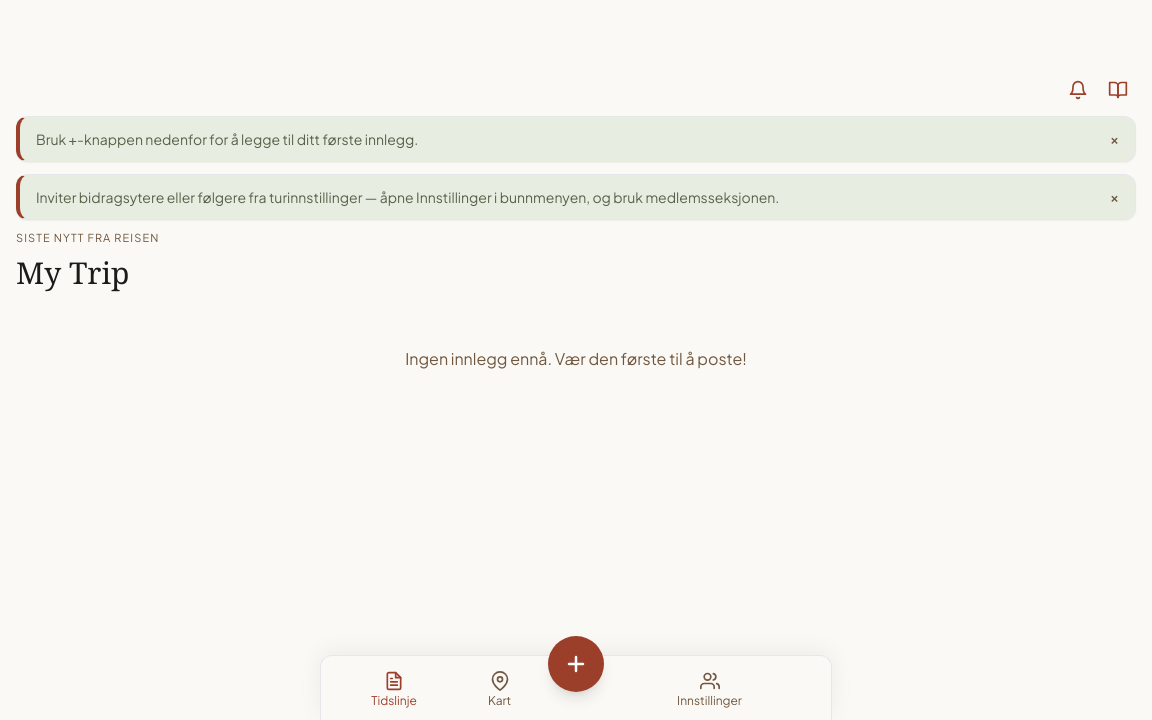
Test: TripSettingsScreen › shows creator settings after timeline using one QueryClient (trip cache matches useQuery shape)
The width and height of the screenshot is (1152, 720).
Click the button "Innstillinger": (710, 690) [669,668,750,712]
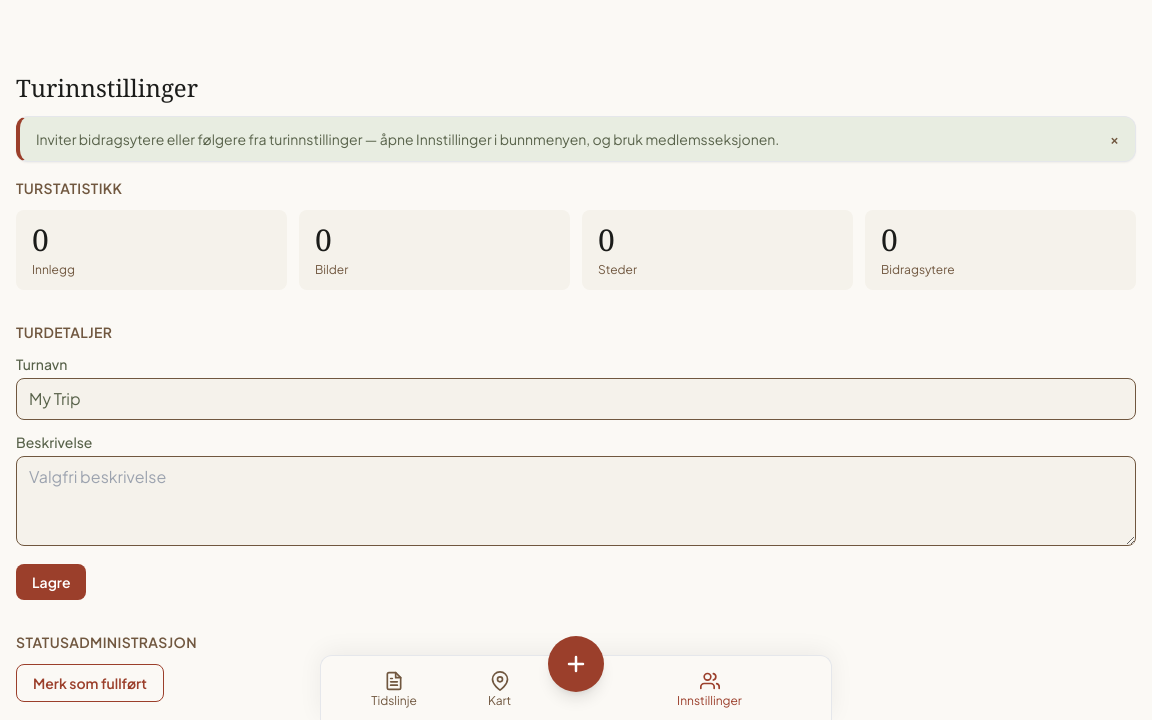
Check: the button "Merk som fullført" is shown, box [16,664,164,702]
